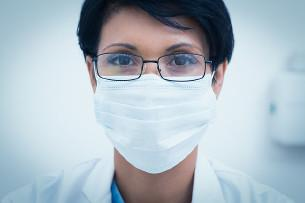OK: (91, 36, 227, 172)
